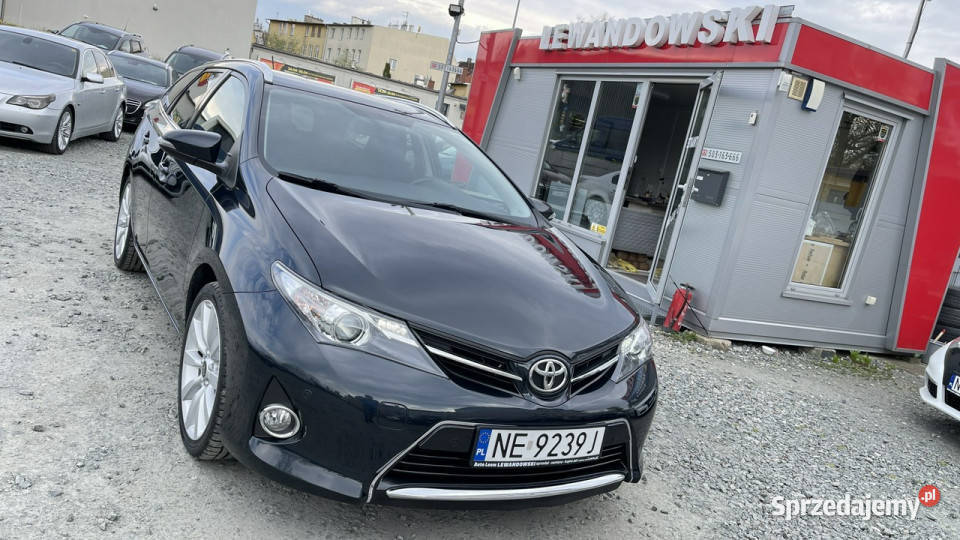number_plate: (473, 428, 605, 462)
